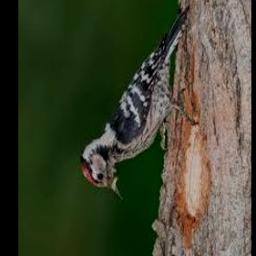Woodpecker: (79, 8, 198, 200)
